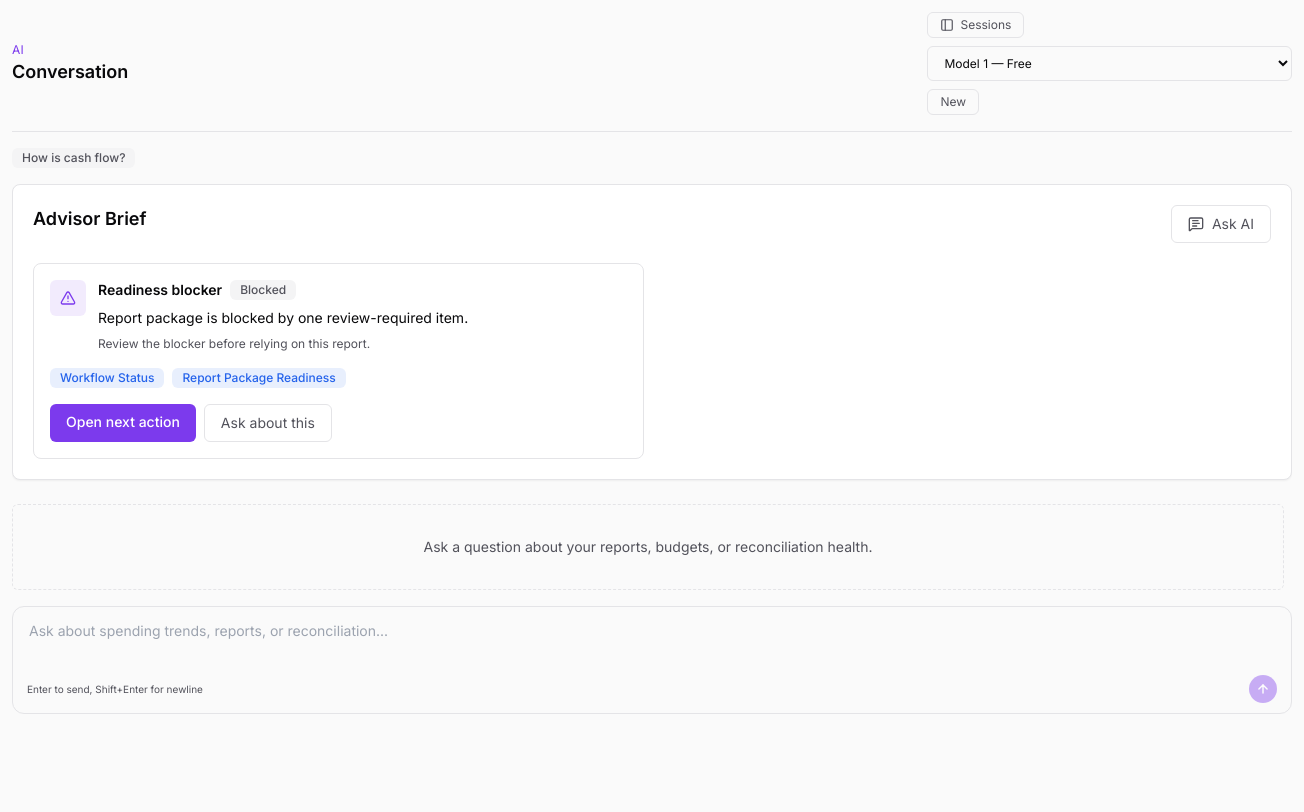
it: ChatPanel › AC16.20.7 handles missing stream reader
Type "Hello" into the text box with placeholder "Ask about spending trends, reports, or reconciliation..." at (652, 641), box [23,617,1281,665]
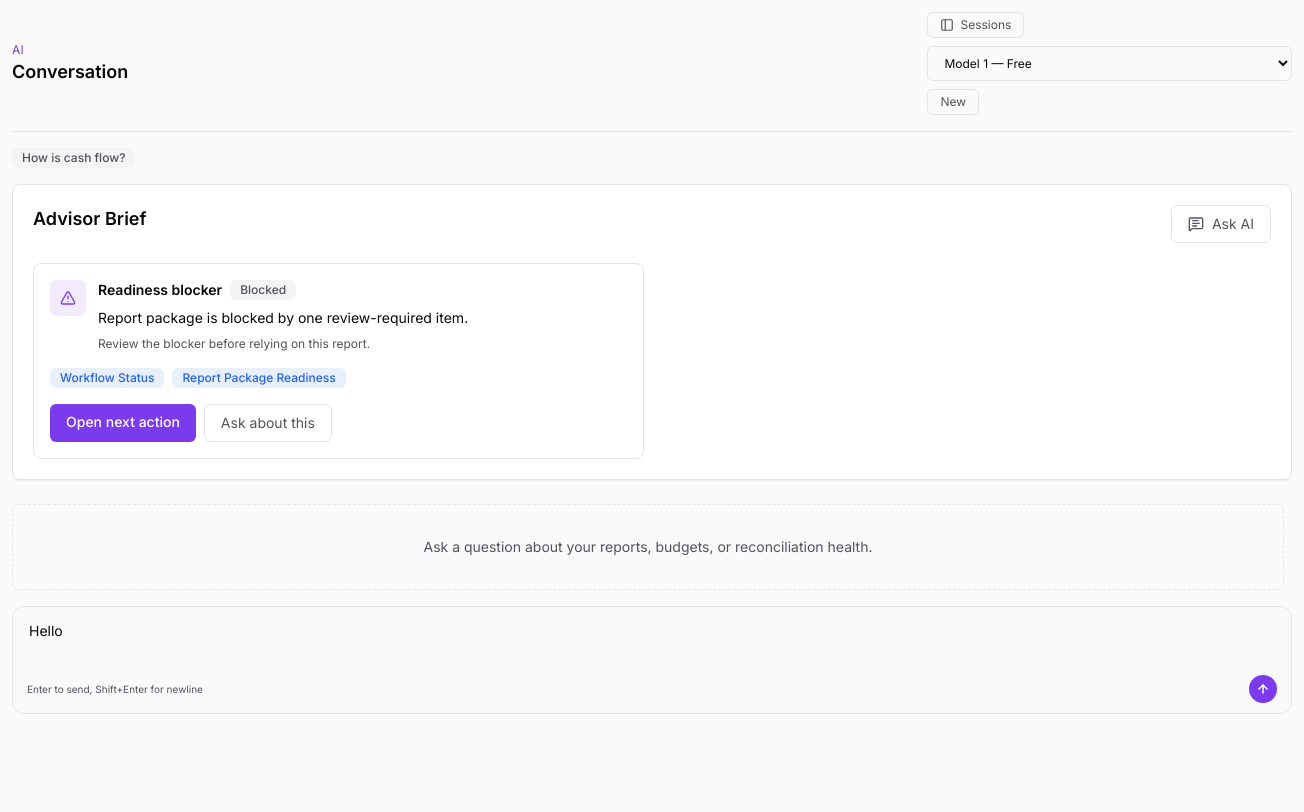
Click the button named "Send" at (1263, 689), box [1249,675,1277,703]
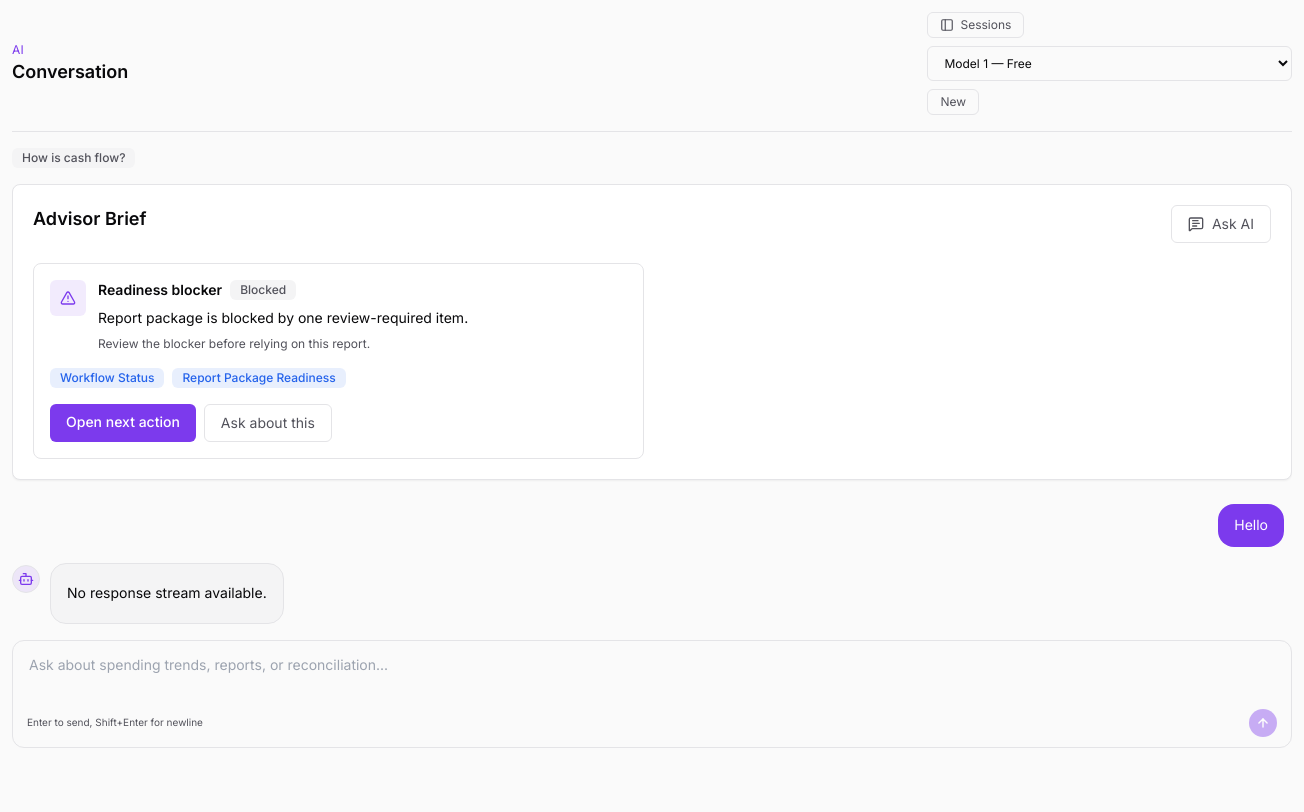
Check: the text "No response stream available." is shown, box [67,582,267,605]
